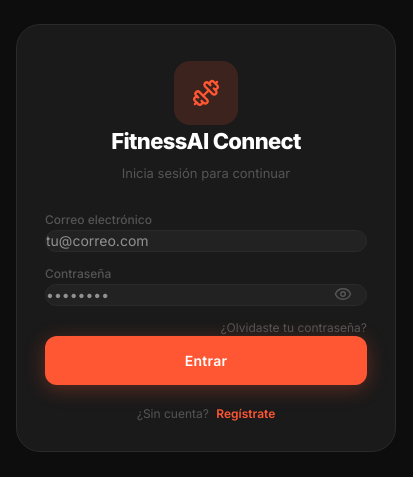
Test case: Login — modo inicio de sesión › avisa cuando la contraseña es incorrecta
In the field labelled "Correo electrónico": coordinates (206, 241) x1=45 y1=230 x2=367 y2=252, type "carlos@example.com"
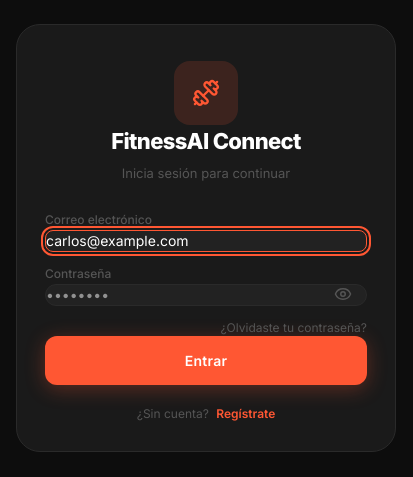
In the password field labelled "Contraseña": coordinates (206, 295) x1=45 y1=284 x2=367 y2=306, type "secreto123"
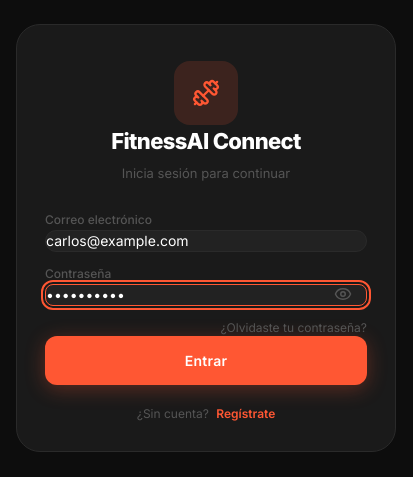
Click the button "Entrar": coordinates (206, 360) x1=45 y1=336 x2=367 y2=385
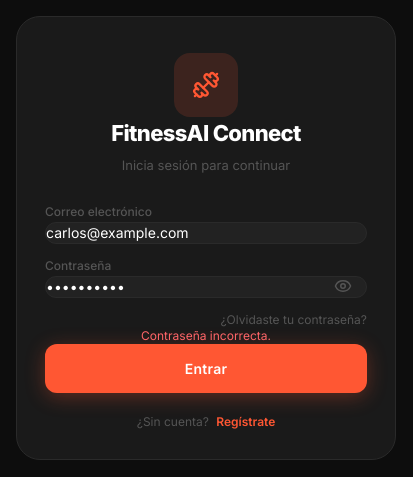
Expected: the text "Contraseña incorrecta." is shown, x1=141 y1=328 x2=271 y2=343
